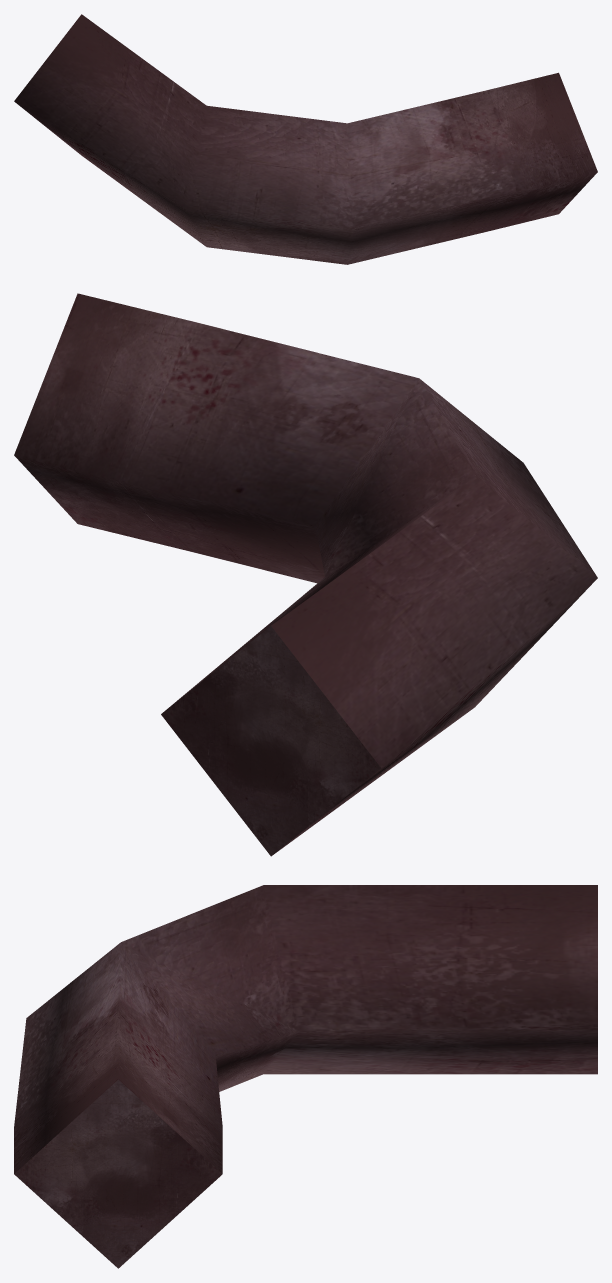
Rendered from ST_TubeCoude.FBX.
3 views of the same model, one above another, from view 1: azimuth 30°, elevation 25°; view 2: azimuth 150°, elevation 25°; view 3: azimuth 270°, elevation 25° (orthographic). The views are drawn at different scales.
Visible parts, largest first — view 1: Cylinder002; view 2: Cylinder002; view 3: Cylinder002.
Part boxes in pixels (x1,y1,x2,y2): Cylinder002: [14, 14, 597, 264]; Cylinder002: [14, 293, 597, 856]; Cylinder002: [14, 885, 597, 1268].
Size of the model in its own units: 122 by 45.17 by 126.
